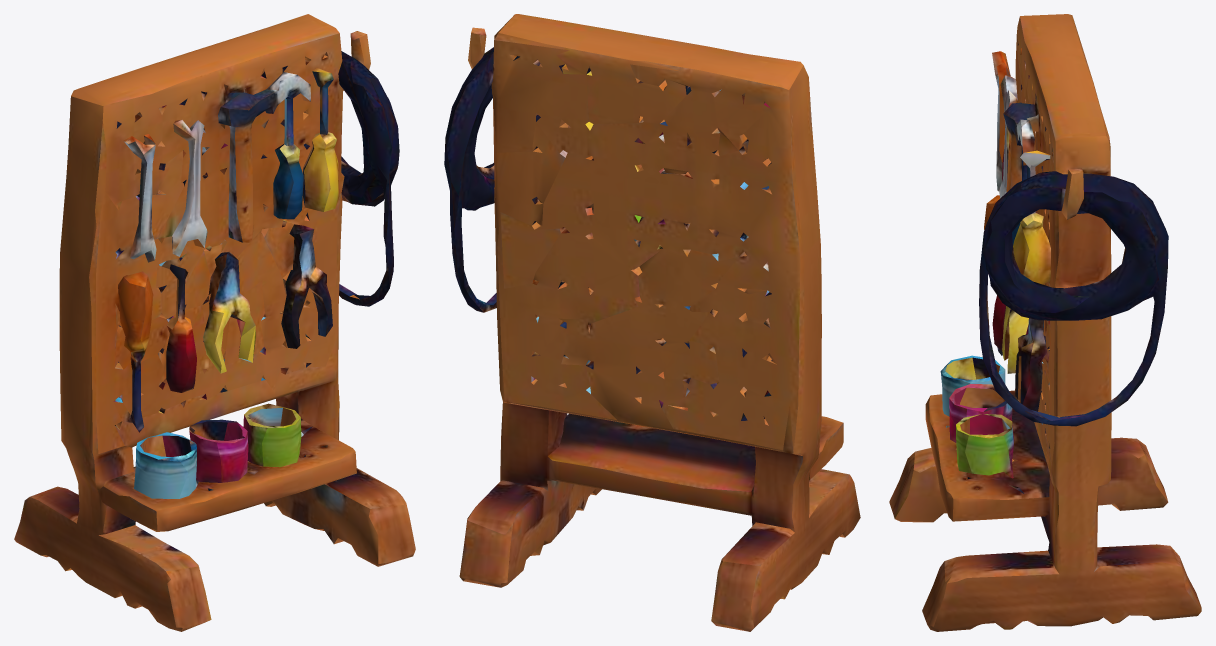
Rendered from tool_wall.glb.
3 views of the same model, side by side, from view 1: azimuth 30°, elevation 25°; view 2: azimuth 150°, elevation 25°; view 3: azimuth 270°, elevation 25° (orthographic). The views are drawn at different scales.
Visible parts, largest first — view 1: tool_wall2; view 2: tool_wall2; view 3: tool_wall2.
Part boxes in pixels (<box>): tool_wall2: <box>14,14,415,631</box>; tool_wall2: <box>444,14,860,631</box>; tool_wall2: <box>889,14,1201,631</box>.
Bounding box in the file's own units: 0.6715 × 1 × 0.5792.
Materials: 1 (1 with a texture image).
